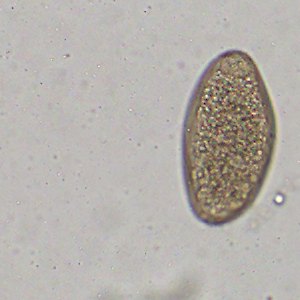Fasciola_hepatica_egg: (181, 46, 279, 229)
